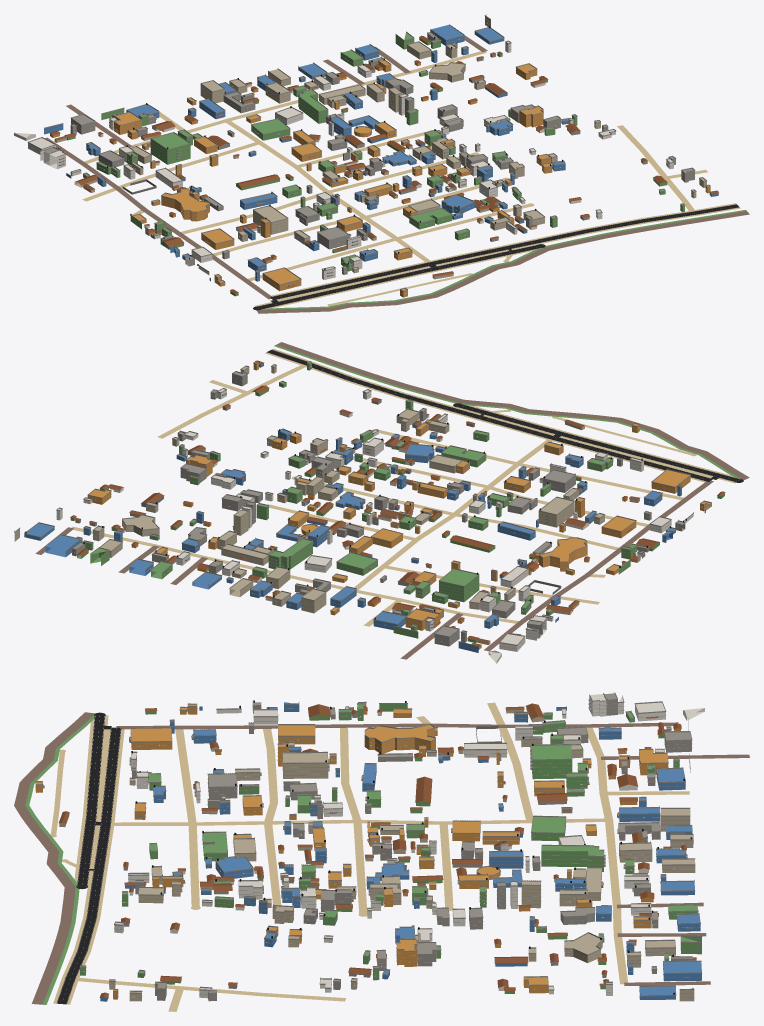
The model's file is zone_t-6_0.glb.
The picture shows the model from 3 angles, top to bottom: view 1: azimuth 30°, elevation 25°; view 2: azimuth 150°, elevation 25°; view 3: azimuth 270°, elevation 25°; orthographic projection. The views are drawn at different scales.
Visible parts, largest first — view 1: parapet_t-6_0, bld_peinture_ocre_t-6_0-col, bld_peinture_bleu_t-6_0-col, bld_peinture_vert_t-6_0-col, bld_peinture_ecaillee_t-6_0-col, route_residential_terre_t-6_0, bld_beton_t-6_0-col, bld_peinture_blanc_t-6_0-col, toit_tole_t-6_0, route_secondary_bitume_t-6_0, bandeau_t-6_0, accotement_t-6_0 (+3 smaller); view 2: parapet_t-6_0, bld_peinture_vert_t-6_0-col, bld_peinture_ocre_t-6_0-col, bld_peinture_bleu_t-6_0-col, bld_peinture_ecaillee_t-6_0-col, route_residential_terre_t-6_0, bld_beton_t-6_0-col, bld_peinture_blanc_t-6_0-col, toit_tole_t-6_0, route_secondary_bitume_t-6_0, bandeau_t-6_0, promenade_t-6_0 (+3 smaller); view 3: parapet_t-6_0, route_residential_terre_t-6_0, bld_peinture_ocre_t-6_0-col, bld_peinture_bleu_t-6_0-col, bld_peinture_vert_t-6_0-col, bld_peinture_ecaillee_t-6_0-col, bld_beton_t-6_0-col, bld_peinture_blanc_t-6_0-col, toit_tole_t-6_0, route_secondary_bitume_t-6_0, bandeau_t-6_0, promenade_t-6_0 (+5 smaller).
Boxes of the visible parts, x1,y1,x2,y2 form: parapet_t-6_0: (27, 15, 710, 291); bld_peinture_ocre_t-6_0-col: (50, 60, 710, 297); bld_peinture_bleu_t-6_0-col: (44, 25, 718, 281); bld_peinture_vert_t-6_0-col: (67, 32, 684, 296); bld_peinture_ecaillee_t-6_0-col: (54, 16, 706, 284); route_residential_terre_t-6_0: (82, 51, 708, 280); bld_beton_t-6_0-col: (44, 33, 694, 274); bld_peinture_blanc_t-6_0-col: (14, 41, 673, 279); toit_tole_t-6_0: (50, 35, 718, 293); route_secondary_bitume_t-6_0: (253, 204, 739, 310); bandeau_t-6_0: (30, 19, 709, 294); accotement_t-6_0: (255, 203, 740, 308); parapet_t-6_0: (14, 361, 711, 646); bld_peinture_vert_t-6_0-col: (70, 362, 724, 642); bld_peinture_ocre_t-6_0-col: (87, 362, 711, 649); bld_peinture_bleu_t-6_0-col: (24, 363, 705, 652); bld_peinture_ecaillee_t-6_0-col: (14, 365, 708, 644); route_residential_terre_t-6_0: (71, 364, 683, 626); bld_beton_t-6_0-col: (72, 372, 685, 646); bld_peinture_blanc_t-6_0-col: (56, 389, 693, 663); toit_tole_t-6_0: (70, 360, 725, 646); route_secondary_bitume_t-6_0: (267, 349, 743, 482); bandeau_t-6_0: (15, 366, 703, 649); promenade_t-6_0: (276, 342, 749, 480); parapet_t-6_0: (35, 692, 702, 996); route_residential_terre_t-6_0: (75, 702, 689, 1011); bld_peinture_ocre_t-6_0-col: (35, 704, 680, 999); bld_peinture_bleu_t-6_0-col: (100, 702, 701, 1001); bld_peinture_vert_t-6_0-col: (80, 704, 701, 993); bld_peinture_ecaillee_t-6_0-col: (59, 703, 695, 1001); bld_beton_t-6_0-col: (123, 693, 692, 1001); bld_peinture_blanc_t-6_0-col: (114, 694, 704, 998); toit_tole_t-6_0: (59, 703, 696, 998); route_secondary_bitume_t-6_0: (56, 712, 121, 1004); bandeau_t-6_0: (35, 699, 701, 997); promenade_t-6_0: (14, 712, 95, 1004).
Bounding box in the file's own units: 531 × 19.9 × 534.
